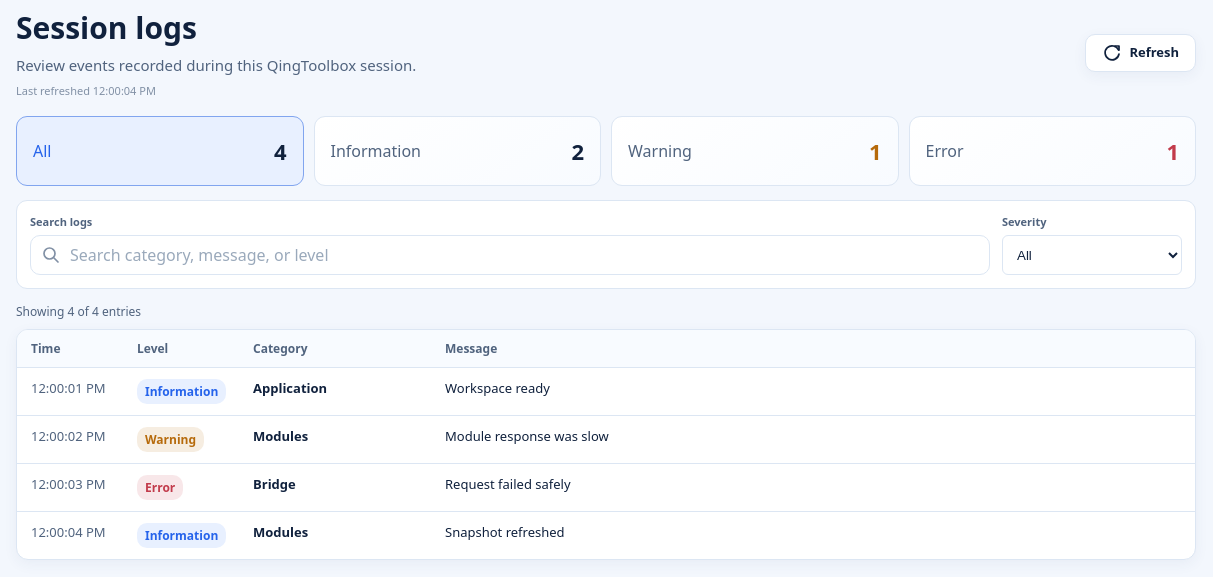
LogsPage everyday workspace › searches category
In the search field named "Search logs": (510, 255) [30,235,990,275], type "bridge"
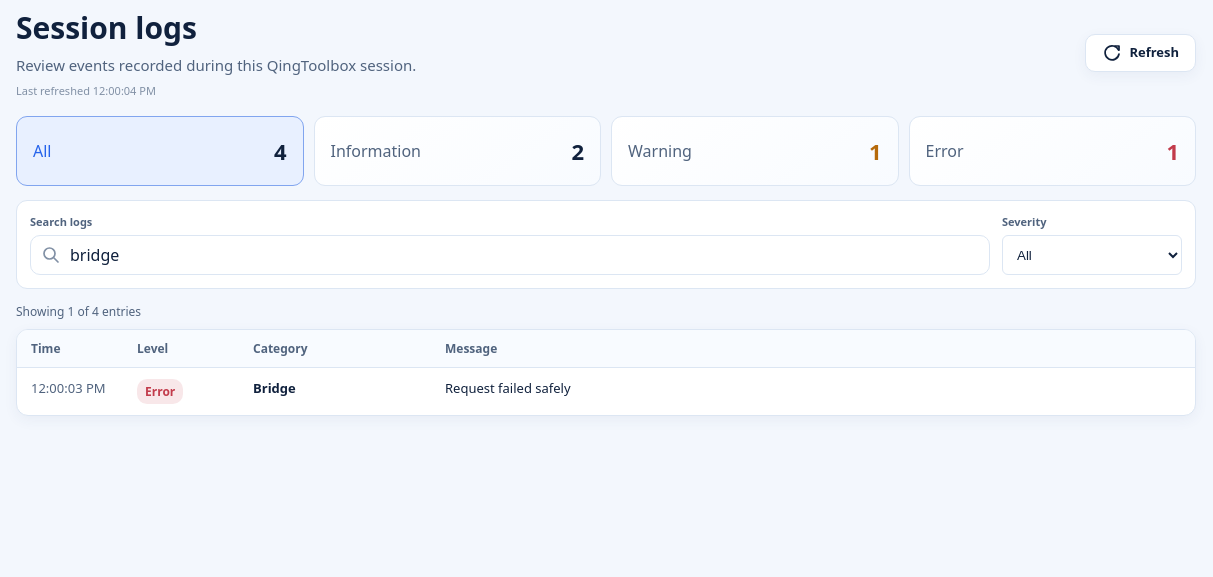
Expected: the number of elements with class "logs-row" is 1, [17,367,1195,415]
